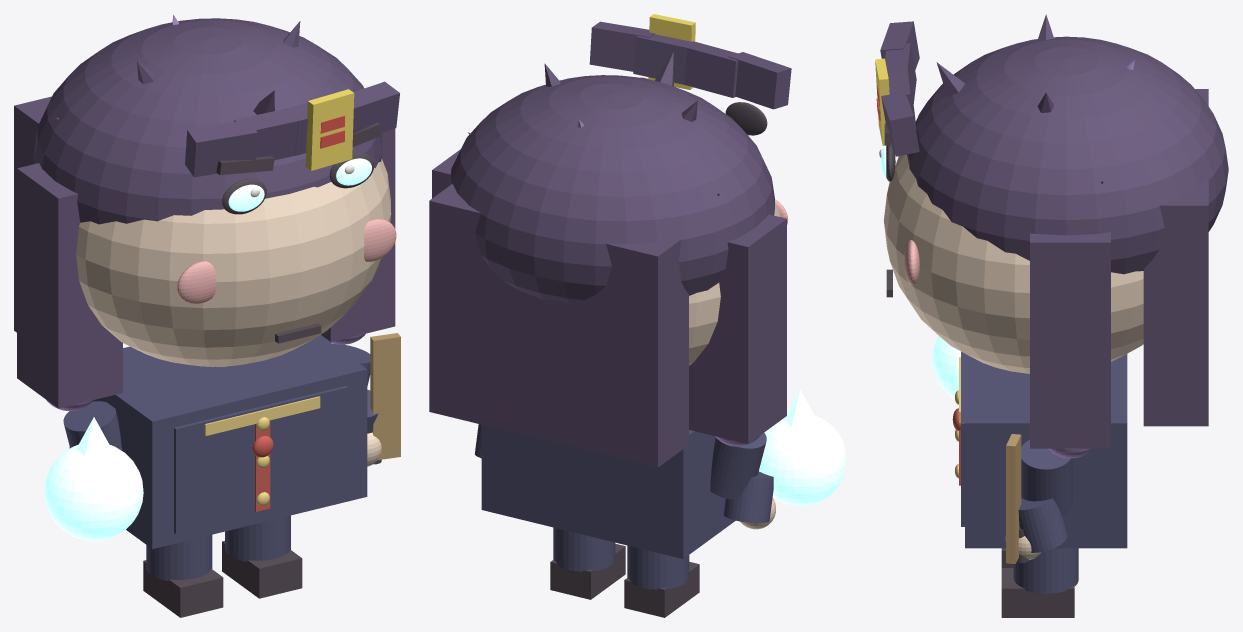
File: exorcist.glb
3 views of the same model, side by side, from view 1: azimuth 30°, elevation 25°; view 2: azimuth 150°, elevation 25°; view 3: azimuth 270°, elevation 25° (orthographic). The views are drawn at different scales.
Visible parts, largest first — view 1: HairCap, Head, Coat, SideHair_L, CoatFront, GhostOrb, SideHair_R, WoodSwordBlade, Fringe_0, Talisman, Shoe_L, Shoe_R (+15 smaller); view 2: HairCap, BackHair, Coat, SideHair_L, GhostOrb, Fringe_0, UpperArm_L, Fringe_1, Leg_L, Leg_R, Fringe_3, Shoe_R (+8 smaller); view 3: HairCap, Head, SideHair_R, Coat, BackHair, UpperArm_R, Leg_R, Shoe_R, Forearm_R, WoodSwordBlade, Fringe_3, GhostOrb (+6 smaller).
Boxes of the visible parts, x1=… form: HairCap: x1=34, y1=18, x2=382, y2=224; Head: x1=76, y1=158, x2=391, y2=366; Coat: x1=69, y1=335, x2=367, y2=549; SideHair_L: x1=17, y1=163, x2=122, y2=408; CoatFront: x1=174, y1=386, x2=347, y2=533; GhostOrb: x1=44, y1=444, x2=143, y2=541; SideHair_R: x1=321, y1=128, x2=395, y2=341; WoodSwordBlade: x1=370, y1=333, x2=400, y2=460; Fringe_0: x1=185, y1=119, x2=257, y2=177; Talisman: x1=305, y1=89, x2=354, y2=170; Shoe_L: x1=143, y1=560, x2=223, y2=617; Shoe_R: x1=222, y1=541, x2=302, y2=598; HairCap: x1=448, y1=75, x2=774, y2=302; BackHair: x1=429, y1=183, x2=688, y2=467; Coat: x1=481, y1=425, x2=735, y2=558; SideHair_L: x1=689, y1=214, x2=786, y2=443; GhostOrb: x1=759, y1=415, x2=846, y2=506; Fringe_0: x1=728, y1=52, x2=791, y2=109; UpperArm_L: x1=710, y1=432, x2=766, y2=499; Fringe_1: x1=684, y1=42, x2=738, y2=97; Leg_L: x1=627, y1=545, x2=689, y2=589; Leg_R: x1=553, y1=527, x2=615, y2=571; Fringe_3: x1=589, y1=21, x2=654, y2=71; Shoe_R: x1=550, y1=543, x2=625, y2=599; HairCap: x1=907, y1=36, x2=1228, y2=274; Head: x1=884, y1=154, x2=1143, y2=373; SideHair_R: x1=1030, y1=232, x2=1110, y2=448; Coat: x1=965, y1=354, x2=1127, y2=548; BackHair: x1=1143, y1=89, x2=1208, y2=426; UpperArm_R: x1=1021, y1=440, x2=1072, y2=515; Leg_R: x1=1013, y1=548, x2=1078, y2=593; Shoe_R: x1=1001, y1=568, x2=1074, y2=617; Forearm_R: x1=1018, y1=498, x2=1067, y2=552; WoodSwordBlade: x1=1006, y1=434, x2=1021, y2=563; Fringe_3: x1=881, y1=89, x2=919, y2=156; GhostOrb: x1=932, y1=336, x2=960, y2=399.
Size of the model in its own units: 1.38 by 1.95 by 1.16.
